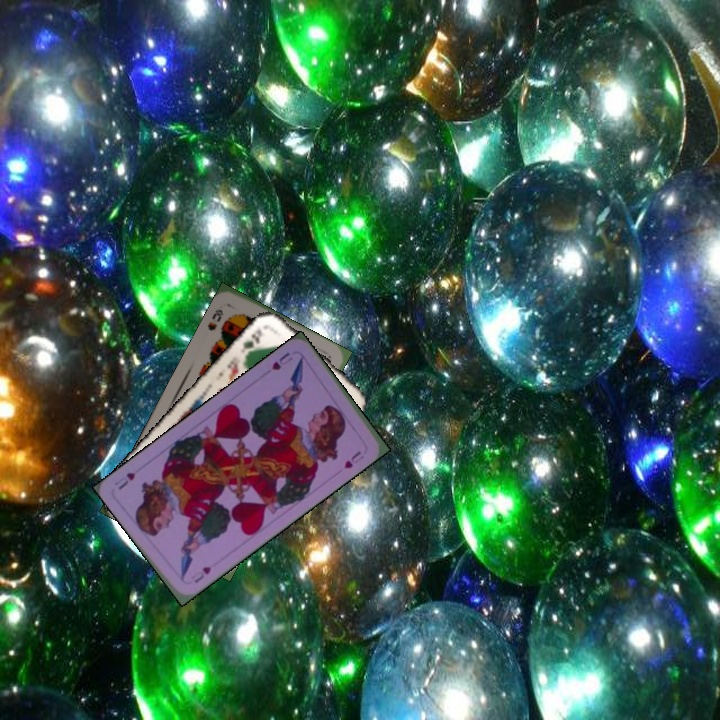GK: (237, 325, 265, 359)
HU: (268, 348, 296, 373), (187, 562, 214, 586)
S8: (203, 305, 226, 333)
